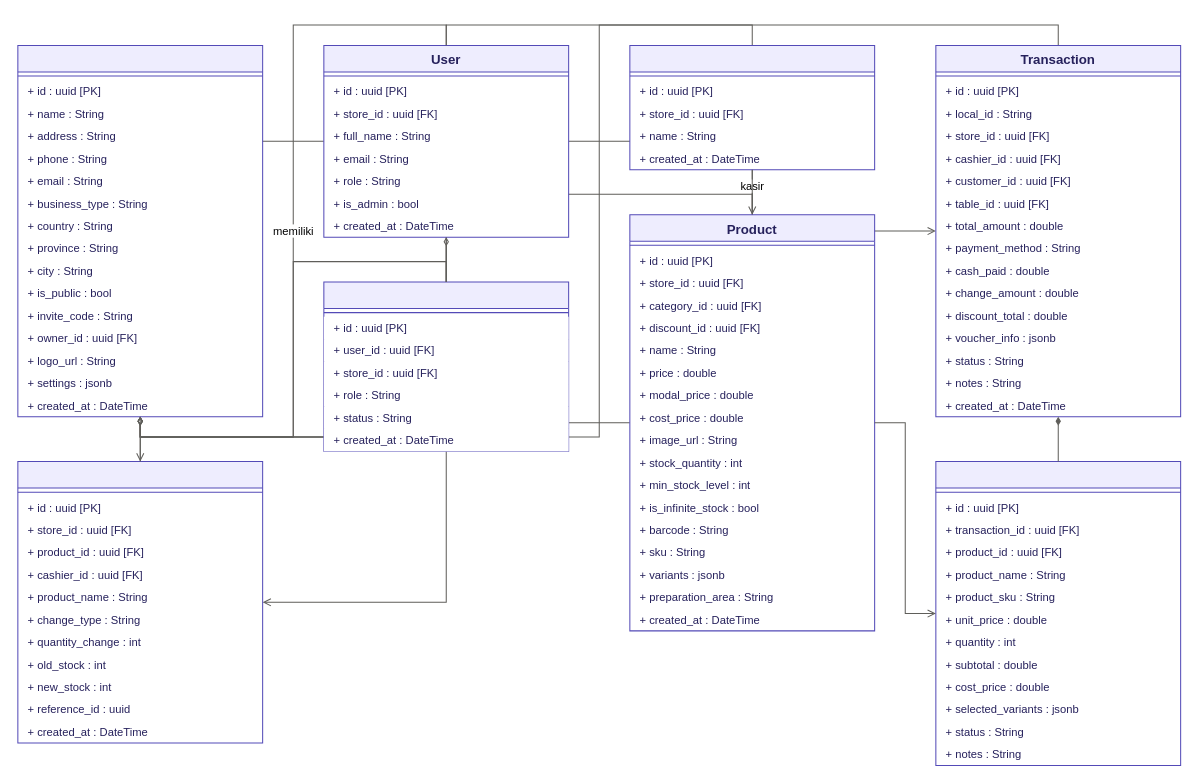
Image size: 1199x783. Some labels were removed from this diagram. Here are the shapes that lost their labels. From the top down, the box of each, then its label:
(629, 44, 875, 170): Category
(17, 44, 263, 417): Store
(323, 281, 569, 451): StoreMember
(17, 461, 263, 743): StockHistory
(935, 461, 1181, 766): TransactionItem
